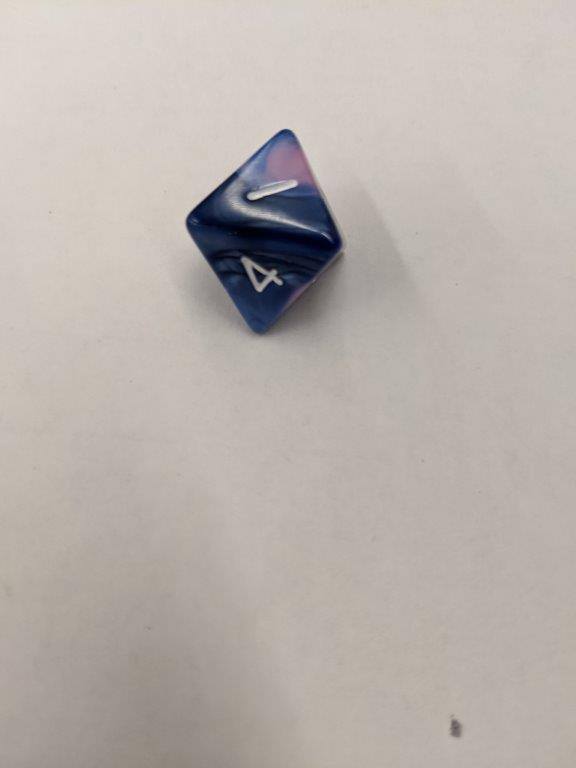d8-1: (184, 122, 345, 336)
